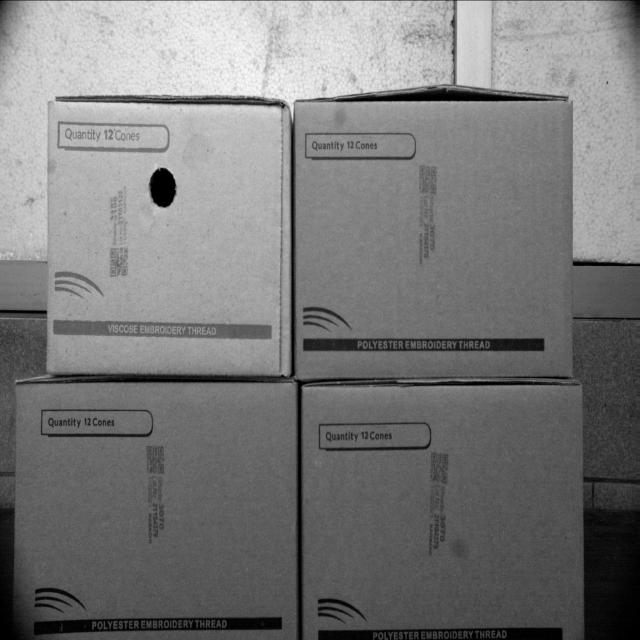cardboxes: (294, 100, 575, 376), (14, 377, 299, 640), (299, 380, 585, 640), (48, 98, 292, 379)
